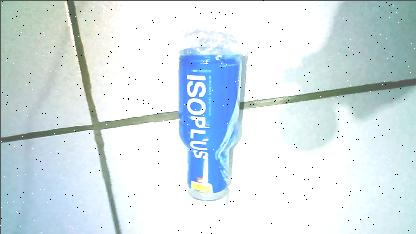Plastic Bottle: (172, 24, 246, 220)
